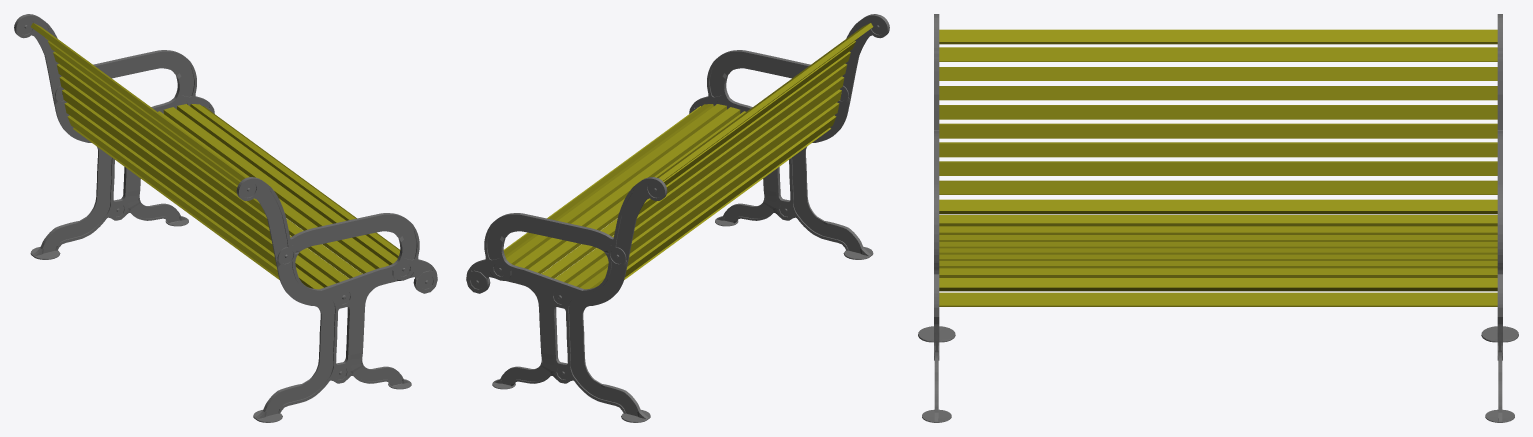
File: bench.fbx
3 renders of one model, left to right at view 1: azimuth 30°, elevation 25°; view 2: azimuth 150°, elevation 25°; view 3: azimuth 270°, elevation 25°, orthographic. The views are drawn at different scales.
Visible parts, largest first — view 1: Cube, Plane; view 2: Cube, Plane; view 3: Cube, Plane.
Boxes of the visible parts, x1=… form: Cube: x1=31, y1=23, x2=400, y2=289; Plane: x1=14, y1=14, x2=437, y2=422; Cube: x1=503, y1=23, x2=873, y2=289; Plane: x1=466, y1=14, x2=889, y2=422; Cube: x1=939, y1=29, x2=1497, y2=306; Plane: x1=918, y1=14, x2=1518, y2=422.
Size of the model in its own units: 440 by 514 by 910.
